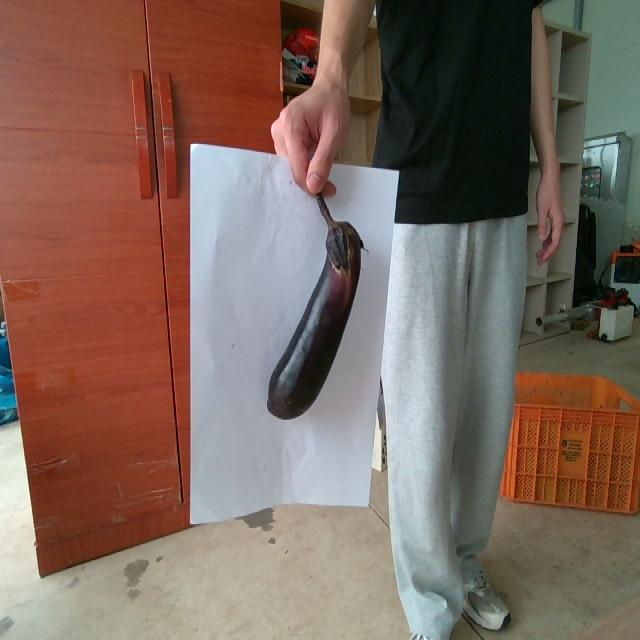Egg plant: (267, 193, 363, 419)
